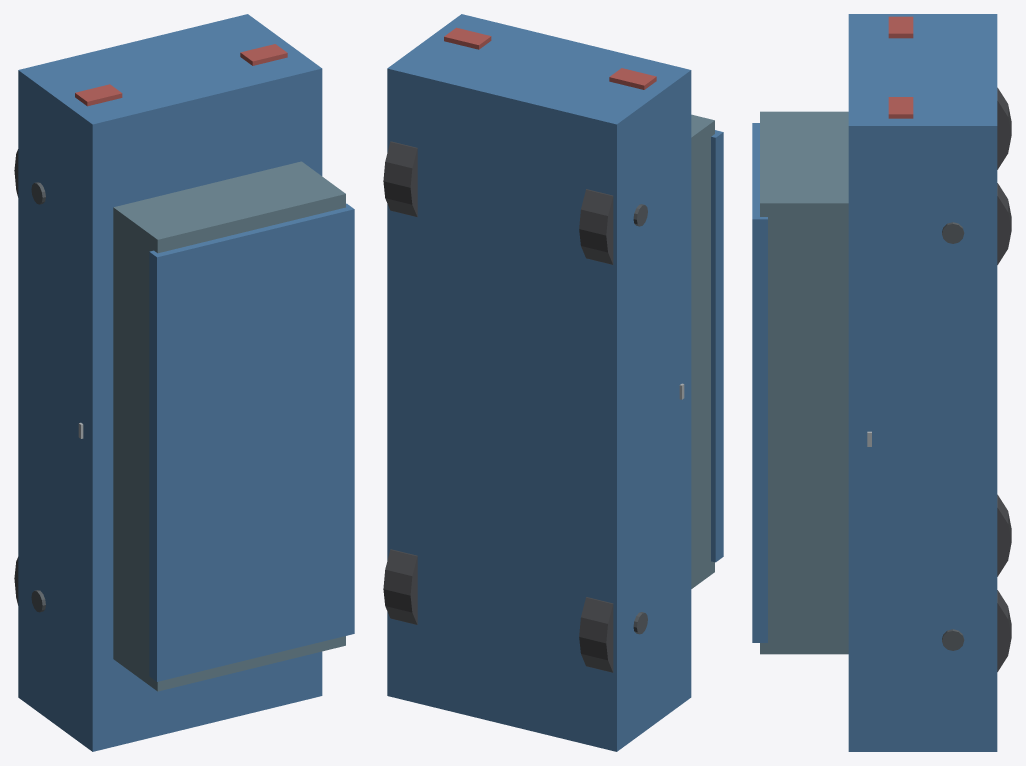
The model's file is full_size_suv.glb.
The picture shows the model from 3 angles, left to right: view 1: azimuth 30°, elevation 25°; view 2: azimuth 150°, elevation 25°; view 3: azimuth 270°, elevation 25°; orthographic projection.
Visible parts, largest first — view 1: 0000_Car_body, 0003_Roof, 0002_Cabin_glass, 0007_Tail_lamp, 0009_Tail_lamp; view 2: 0000_Car_body, 0002_Cabin_glass, 0003_Roof, 0018_Wheel_tire, 0012_Wheel_tire, 0015_Wheel_tire, 0021_Wheel_tire, 0009_Tail_lamp, 0007_Tail_lamp; view 3: 0000_Car_body, 0002_Cabin_glass, 0003_Roof, 0012_Wheel_tire, 0018_Wheel_tire, 0021_Wheel_tire, 0015_Wheel_tire, 0007_Tail_lamp, 0009_Tail_lamp.
Boxes of the visible parts, bbox=[...] form: 0000_Car_body: bbox=[18, 14, 322, 751]; 0003_Roof: bbox=[149, 203, 354, 681]; 0002_Cabin_glass: bbox=[113, 161, 345, 691]; 0007_Tail_lamp: bbox=[75, 84, 122, 106]; 0009_Tail_lamp: bbox=[240, 44, 287, 65]; 0000_Car_body: bbox=[387, 14, 691, 751]; 0002_Cabin_glass: bbox=[691, 114, 714, 588]; 0003_Roof: bbox=[711, 130, 723, 562]; 0018_Wheel_tire: bbox=[579, 189, 613, 264]; 0012_Wheel_tire: bbox=[579, 597, 613, 672]; 0015_Wheel_tire: bbox=[383, 549, 417, 624]; 0021_Wheel_tire: bbox=[383, 141, 417, 217]; 0009_Tail_lamp: bbox=[444, 27, 491, 49]; 0007_Tail_lamp: bbox=[609, 68, 656, 89]; 0000_Car_body: bbox=[848, 14, 997, 751]; 0002_Cabin_glass: bbox=[760, 111, 848, 654]; 0003_Roof: bbox=[752, 123, 767, 642]; 0012_Wheel_tire: bbox=[997, 494, 1011, 576]; 0018_Wheel_tire: bbox=[997, 87, 1011, 169]; 0021_Wheel_tire: bbox=[997, 183, 1011, 264]; 0015_Wheel_tire: bbox=[997, 590, 1011, 671]; 0007_Tail_lamp: bbox=[888, 16, 913, 38]; 0009_Tail_lamp: bbox=[888, 97, 913, 118].
Size of the model in its own units: 2.09 by 5.4 by 1.99.
